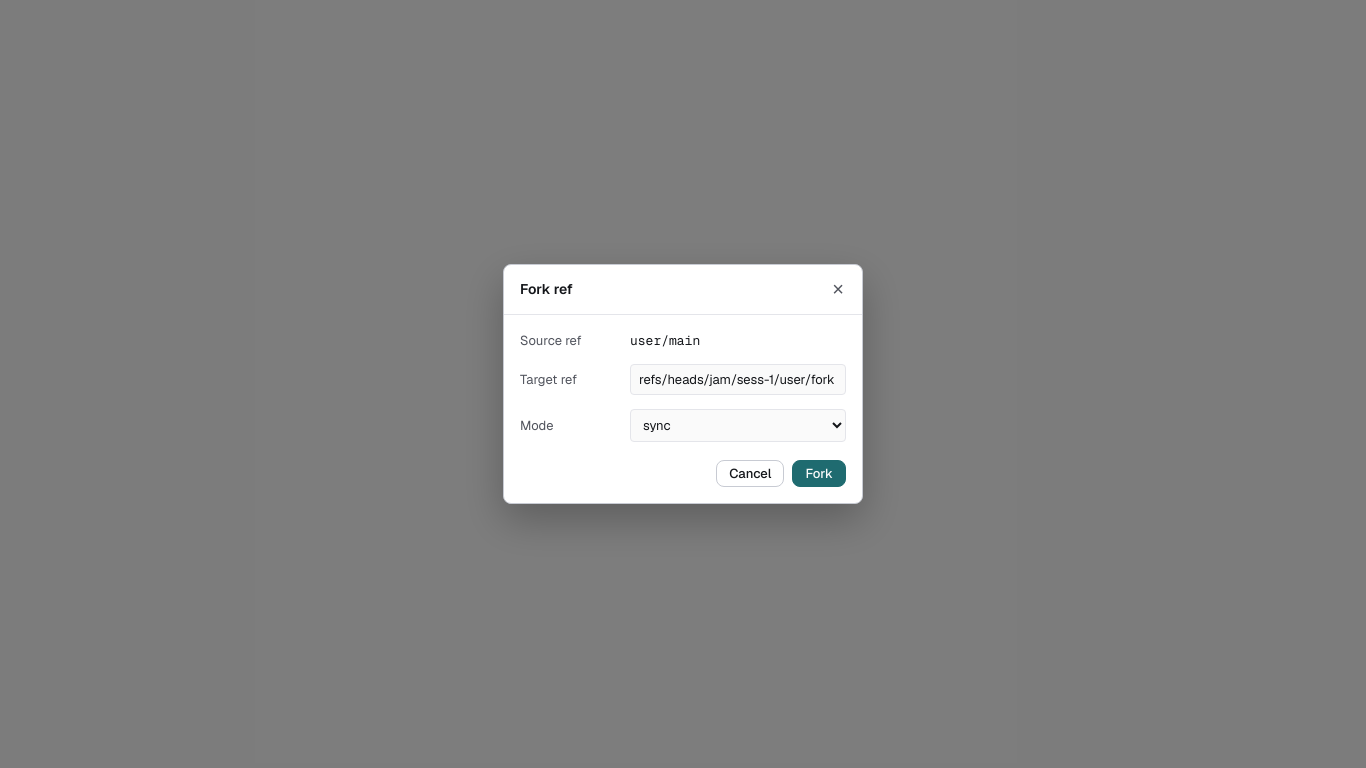
Test: ForkDialog › refs fetch failure surfaces an error and does NOT issue the fork
What coordinates should you click on to do the following:
click the button "Fork"
I would click on:
 (819, 474)
Its box is [792,460,846,487].
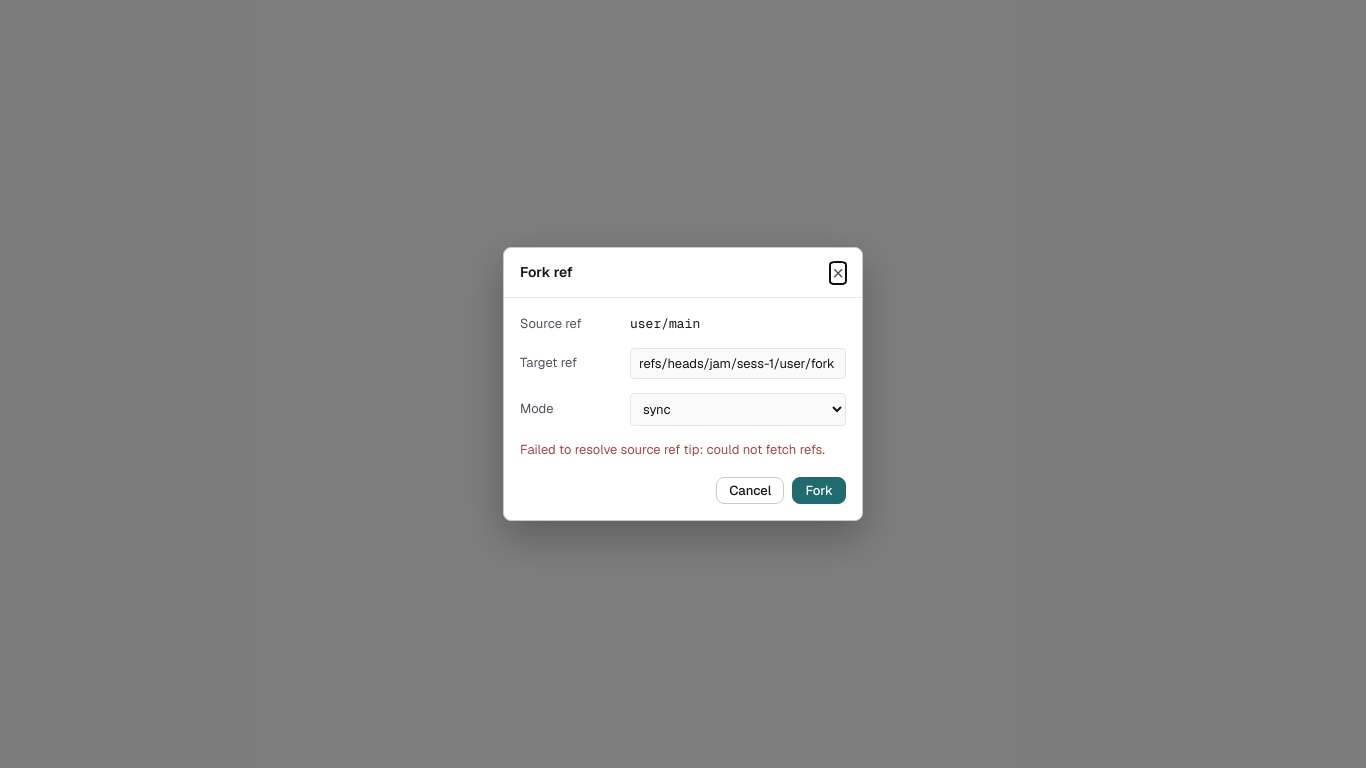
Expected: the message "Failed to resolve source ref tip: could not fetch refs." is shown, [520,440,846,459]
Expected: the message shows "could not fetch refs", [520,440,825,458]
